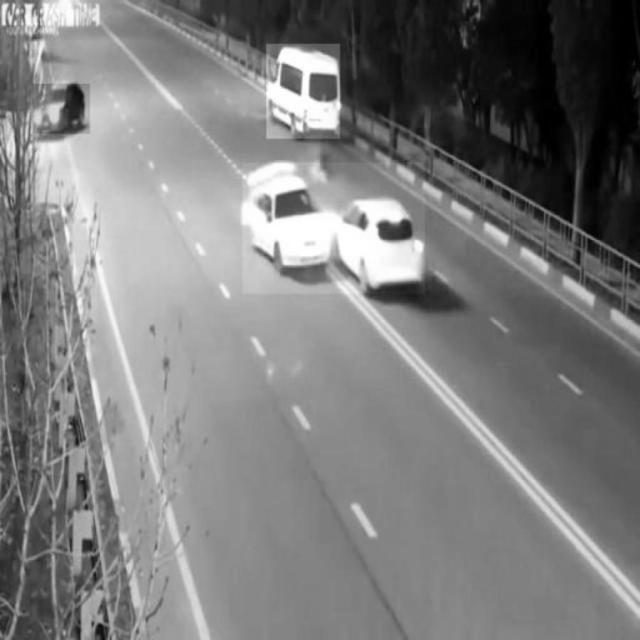accident: (243, 163, 425, 294)
vehicle: (267, 44, 340, 138), (33, 84, 90, 134)
